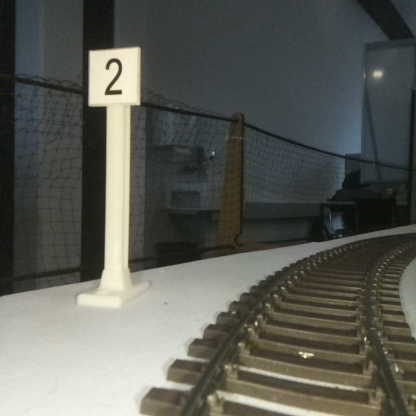white-info-2: (88, 48, 139, 305)
